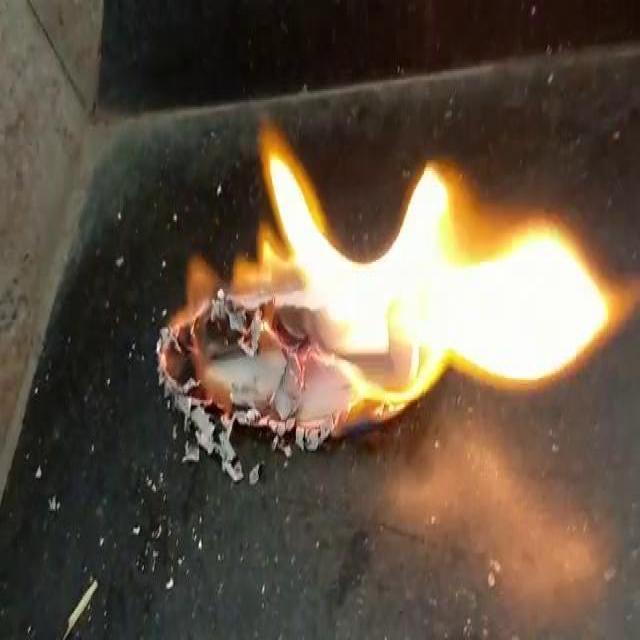Fire: (270, 122, 624, 410), (158, 217, 290, 336)
